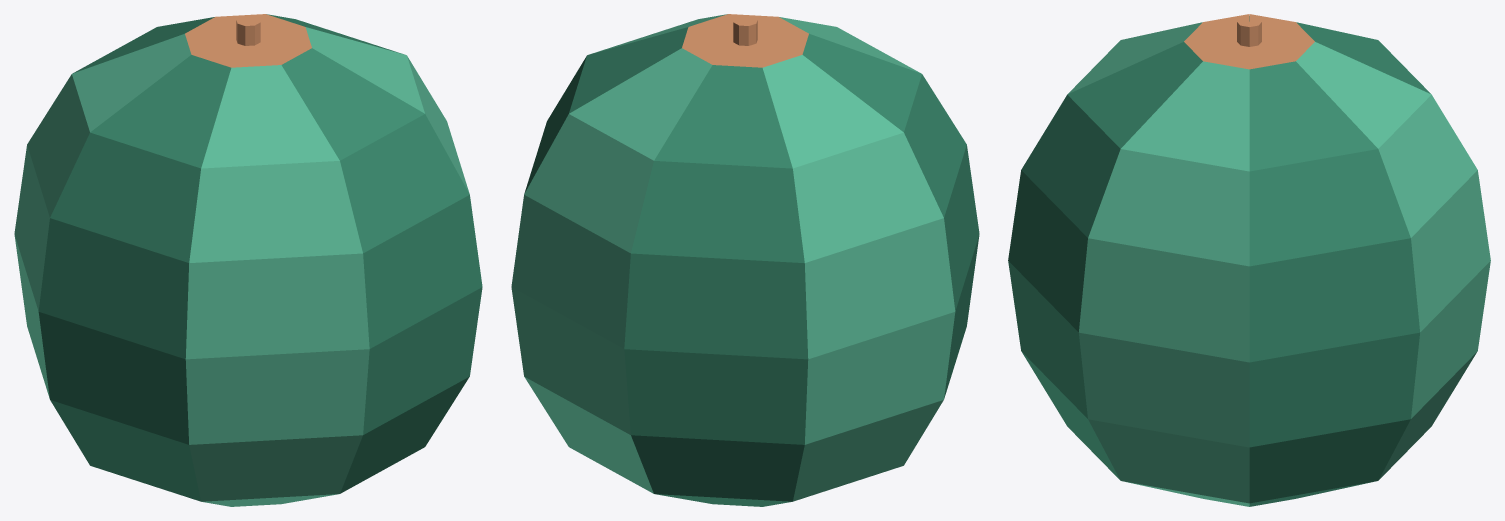
The model's file is Watermelon.glb.
3 views of the same model, side by side, from view 1: azimuth 30°, elevation 25°; view 2: azimuth 150°, elevation 25°; view 3: azimuth 270°, elevation 25° (orthographic).
Visible parts, largest first — view 1: Watermelon_Merged; view 2: Watermelon_Merged; view 3: Watermelon_Merged.
Boxes of the visible parts, x1,y1,x2,y2 form: Watermelon_Merged: [14, 14, 482, 506]; Watermelon_Merged: [511, 14, 979, 506]; Watermelon_Merged: [1008, 14, 1490, 506].
Bounding box in the file's own units: 0.4554 × 0.4761 × 0.4554.
